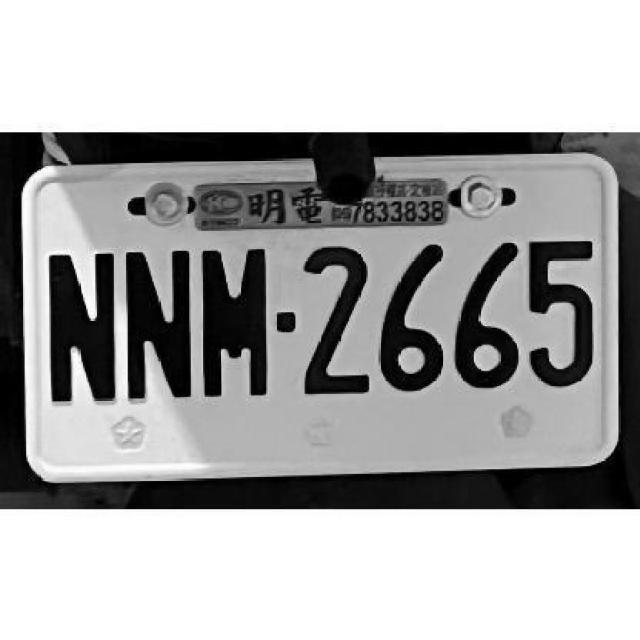-: (274, 305, 297, 332)
2: (297, 234, 371, 397)
5: (525, 231, 597, 395)
6: (370, 232, 448, 396), (450, 232, 524, 391)
M: (200, 237, 272, 403)
N: (117, 242, 195, 404), (45, 246, 122, 408)
